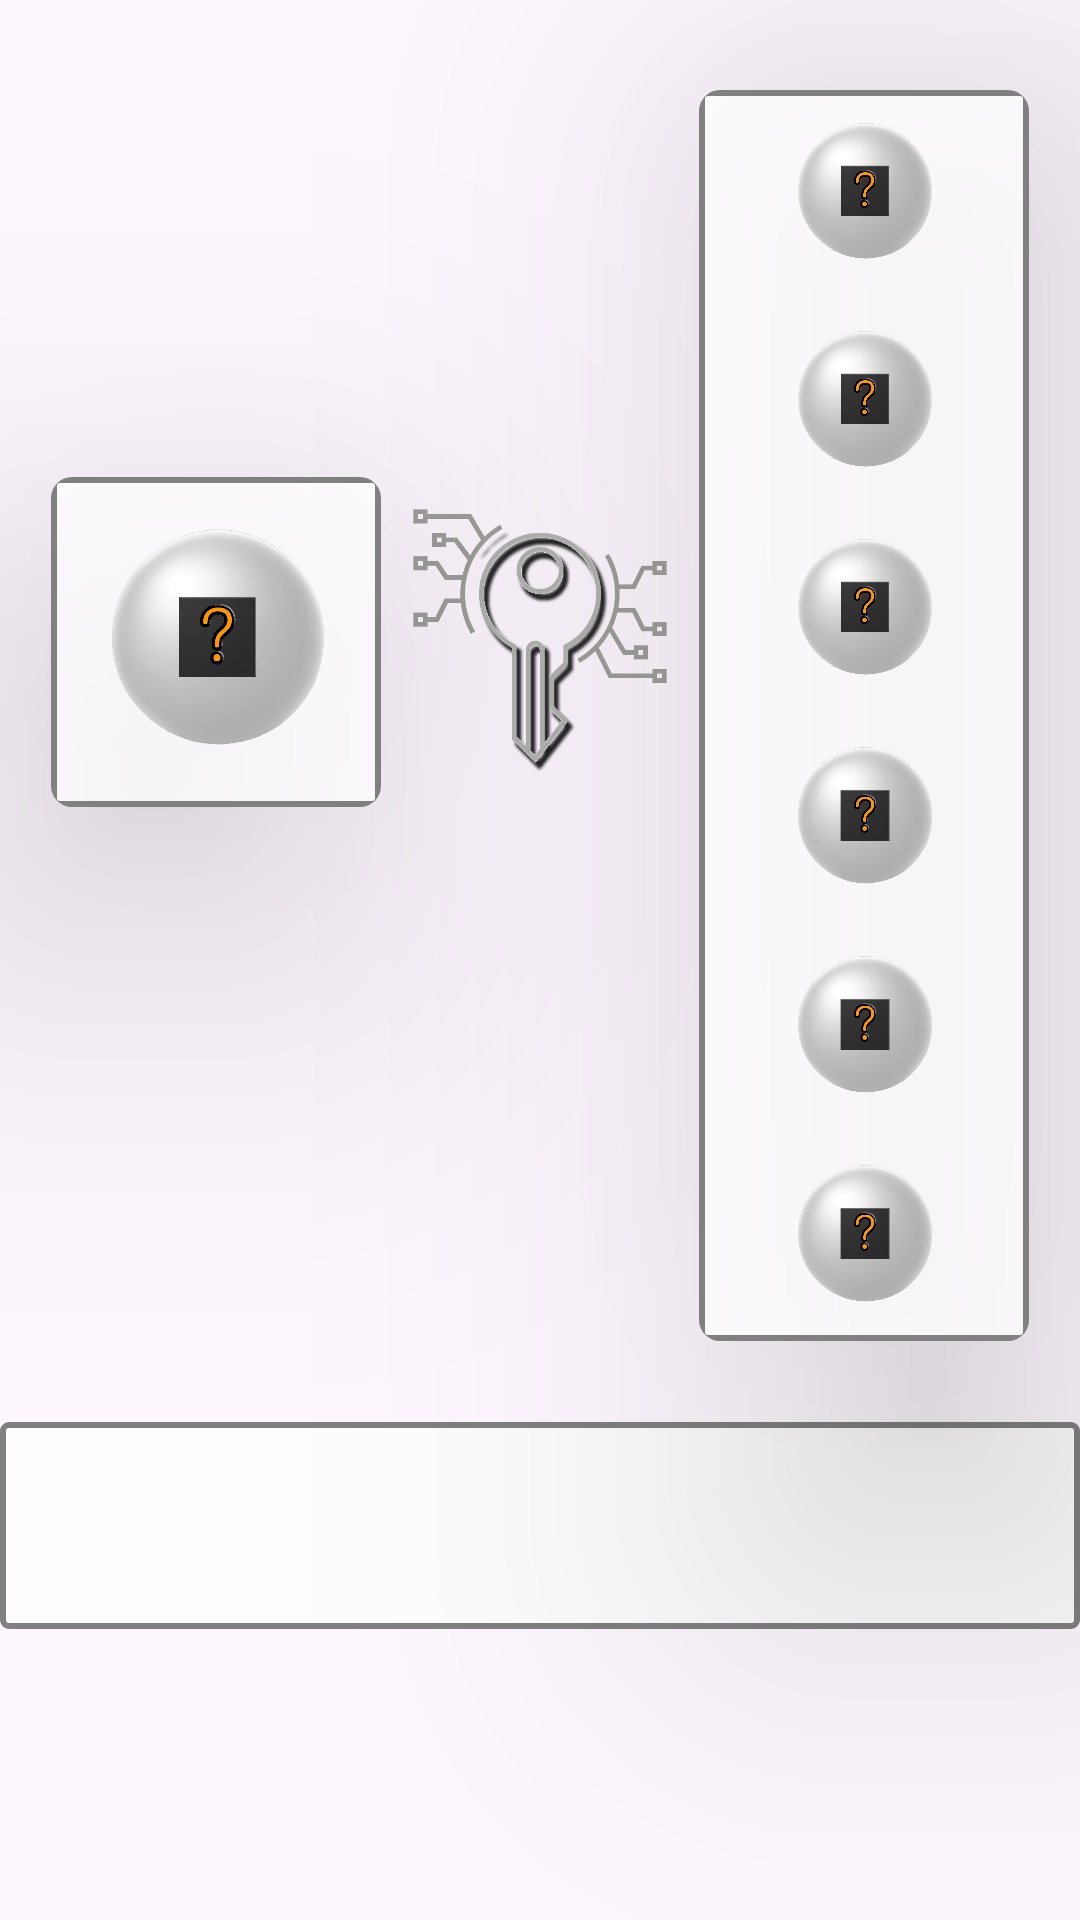

Icon bounding boxes for this 1080 x 1920 phone screenshot, format bbox(x1, y1, x2, y2):
ball: bbox(799, 129, 931, 259), bbox(799, 331, 932, 467), bbox(51, 477, 381, 807), bbox(799, 539, 932, 675), bbox(798, 747, 932, 883), bbox(798, 956, 932, 1092), bbox(699, 1132, 1029, 1341)
